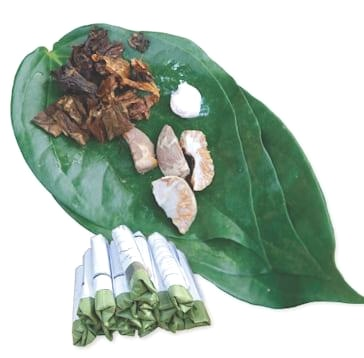bulathwita: (10, 22, 363, 308), (69, 225, 210, 349)
